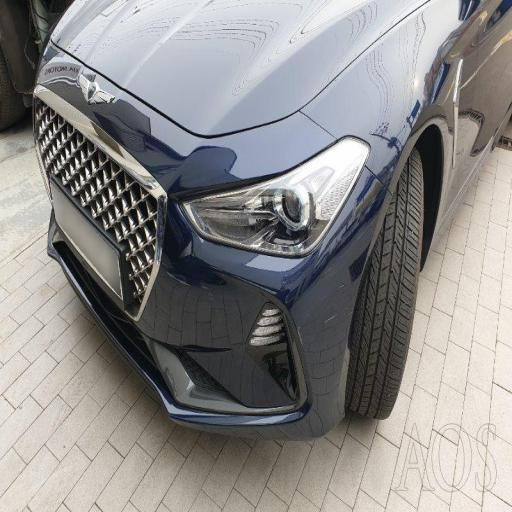broken: (143, 290, 316, 439)
scratch: (83, 4, 448, 112)
